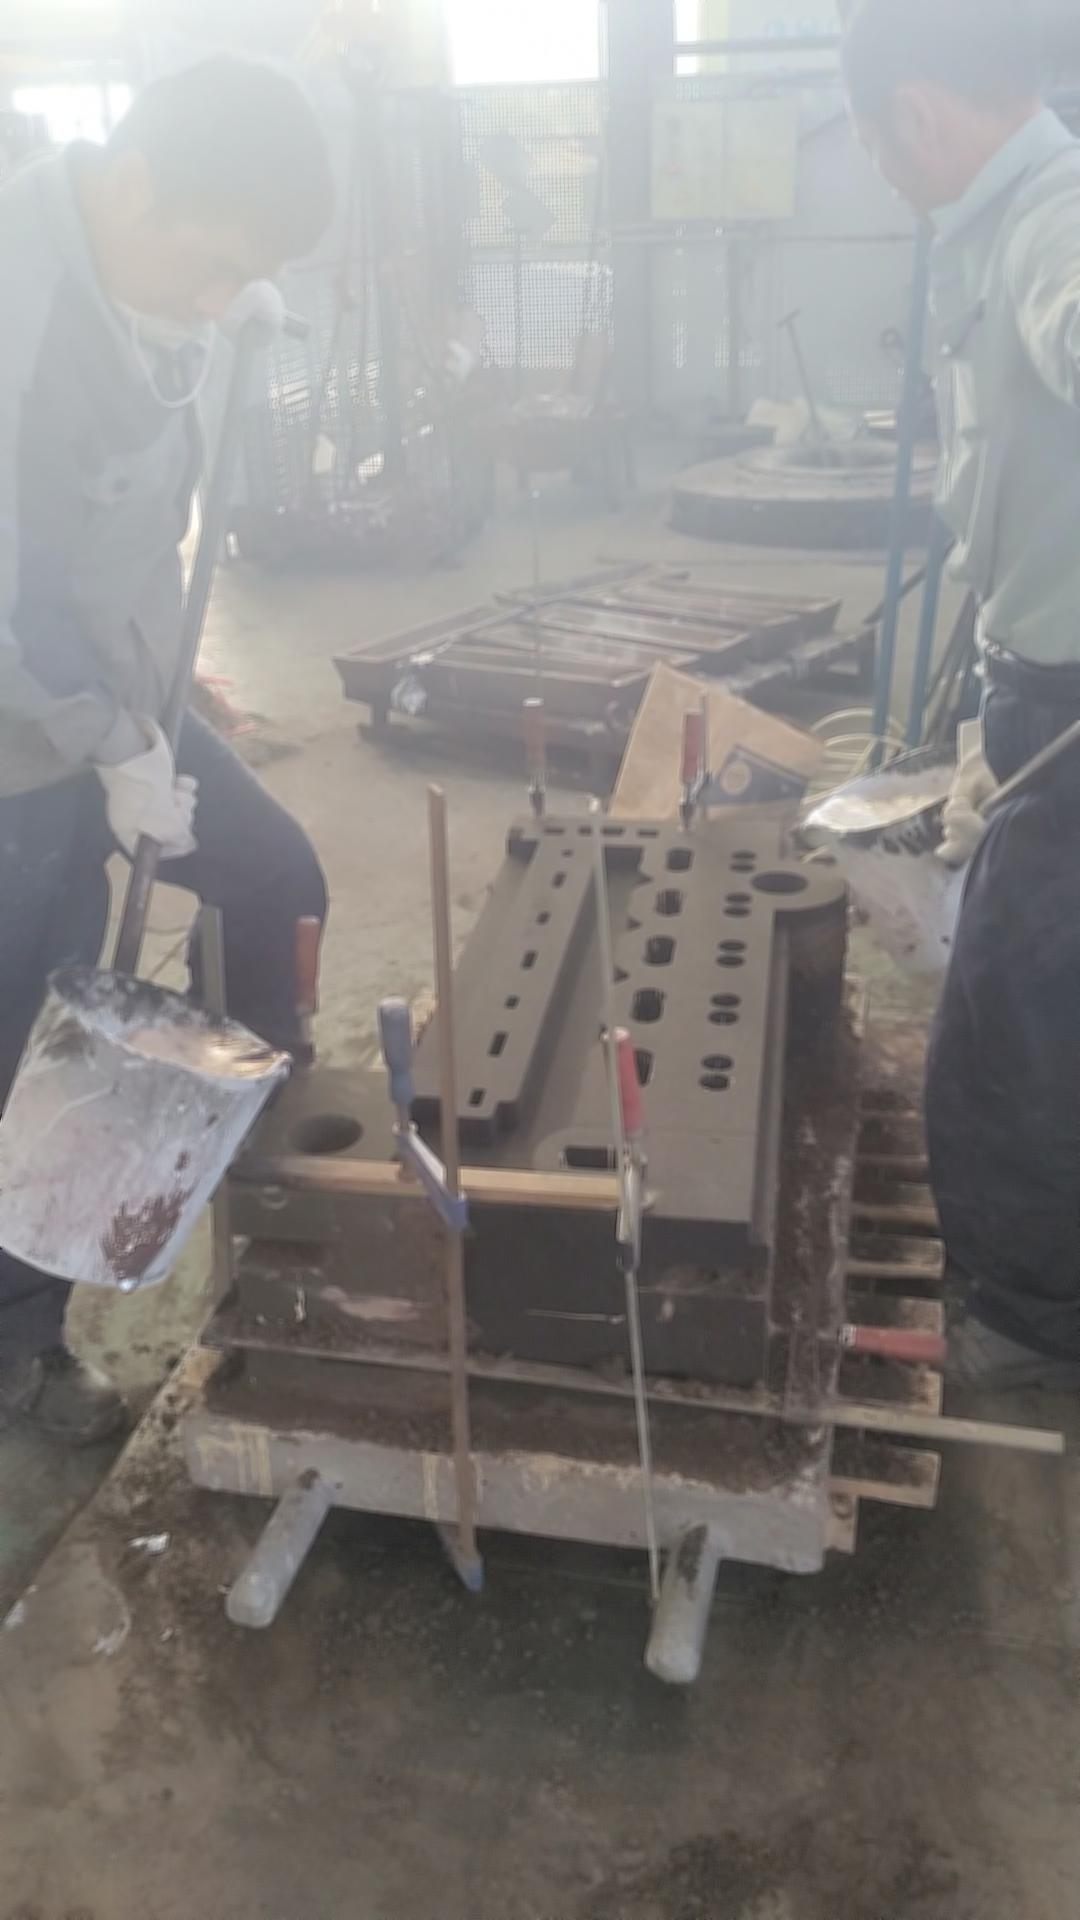pouring hole: (286, 1114, 363, 1154), (749, 872, 807, 894)
